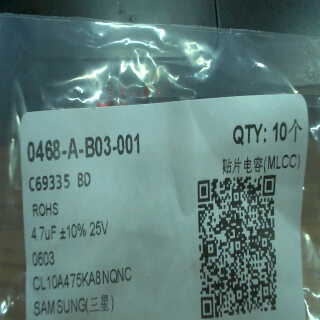4.7uF: (27, 221, 57, 245)
